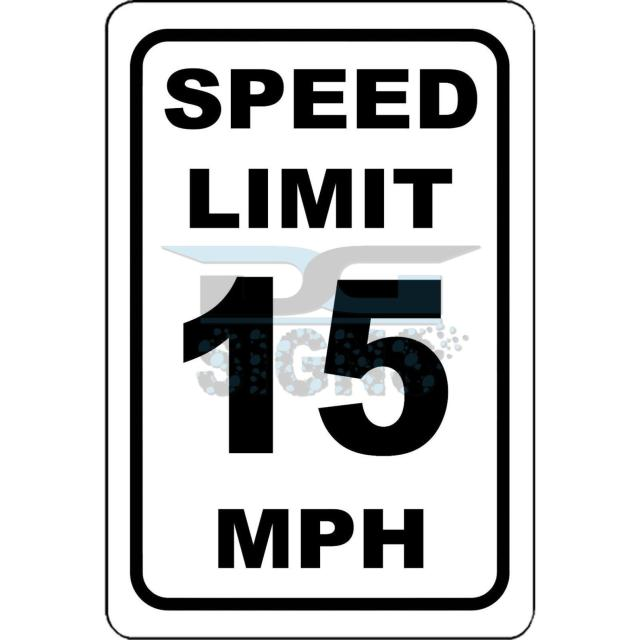speedLimit15: (117, 14, 537, 628)
